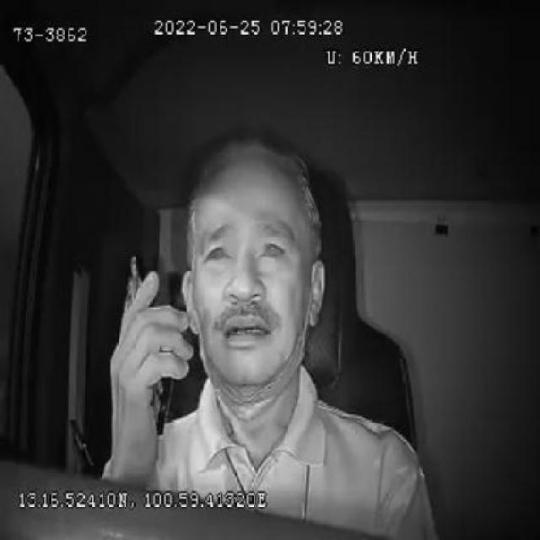phone: (120, 250, 177, 440)
